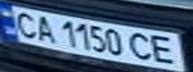0: (103, 27, 127, 57)
1: (54, 18, 78, 47), (69, 19, 90, 51)
5: (87, 24, 109, 54)
A: (30, 14, 57, 44)
C: (6, 8, 42, 38), (127, 29, 157, 62)
E: (148, 33, 184, 66)
